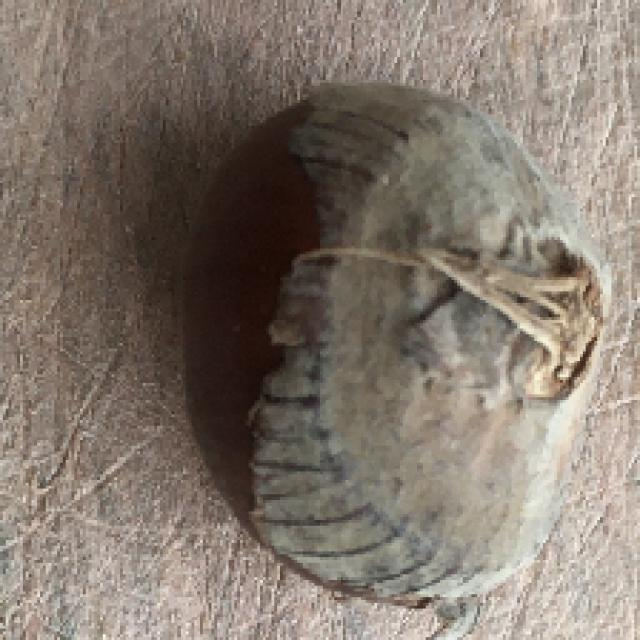damagedHazelnut: (165, 76, 640, 625)
